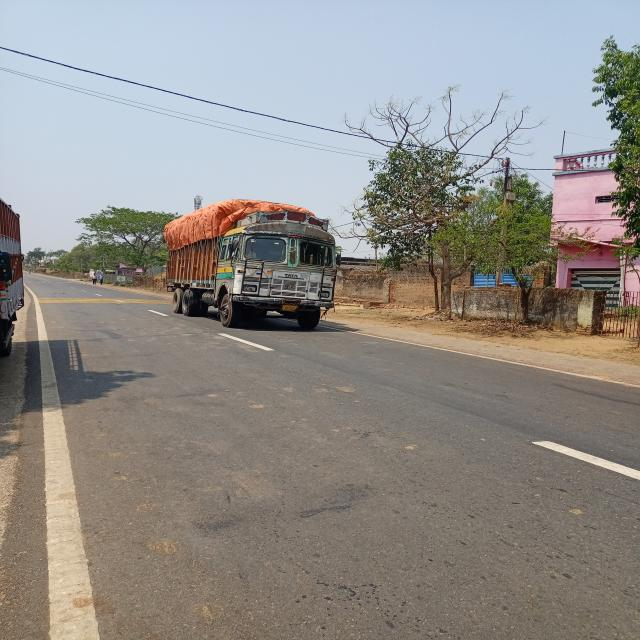Truck: (148, 197, 342, 353)
